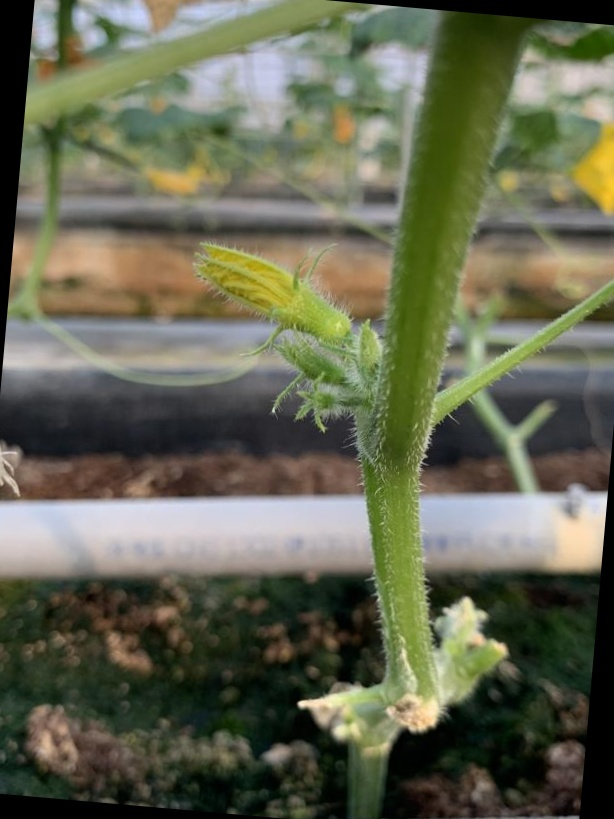bud: (194, 235, 347, 351)
